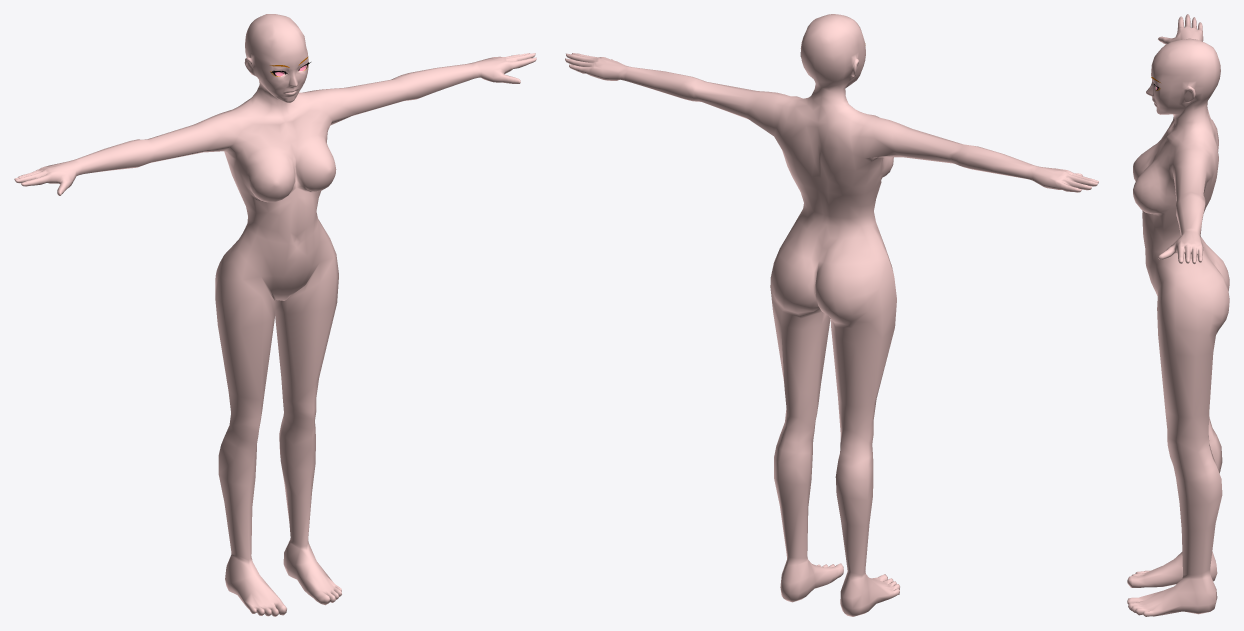
Rendered from FemaleFBX.fbx.
3 views of the same model, side by side, from view 1: azimuth 30°, elevation 25°; view 2: azimuth 150°, elevation 25°; view 3: azimuth 270°, elevation 25° (orthographic). The views are drawn at different scales.
Visible parts, largest first — view 1: Blenda-BODY.001; view 2: Blenda-BODY.001; view 3: Blenda-BODY.001.
Boxes of the visible parts, x1,y1,x2,y2 form: Blenda-BODY.001: (14, 14, 536, 616); Blenda-BODY.001: (565, 14, 1098, 616); Blenda-BODY.001: (1127, 14, 1229, 616).
Bounding box in the file's own units: 173 × 181 × 30.2.
